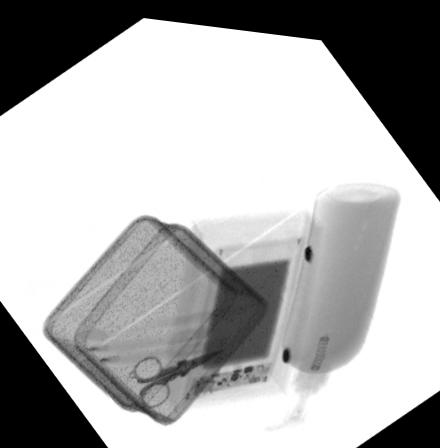Powerbank: (180, 227, 306, 396)
Scissors: (129, 338, 227, 408)
